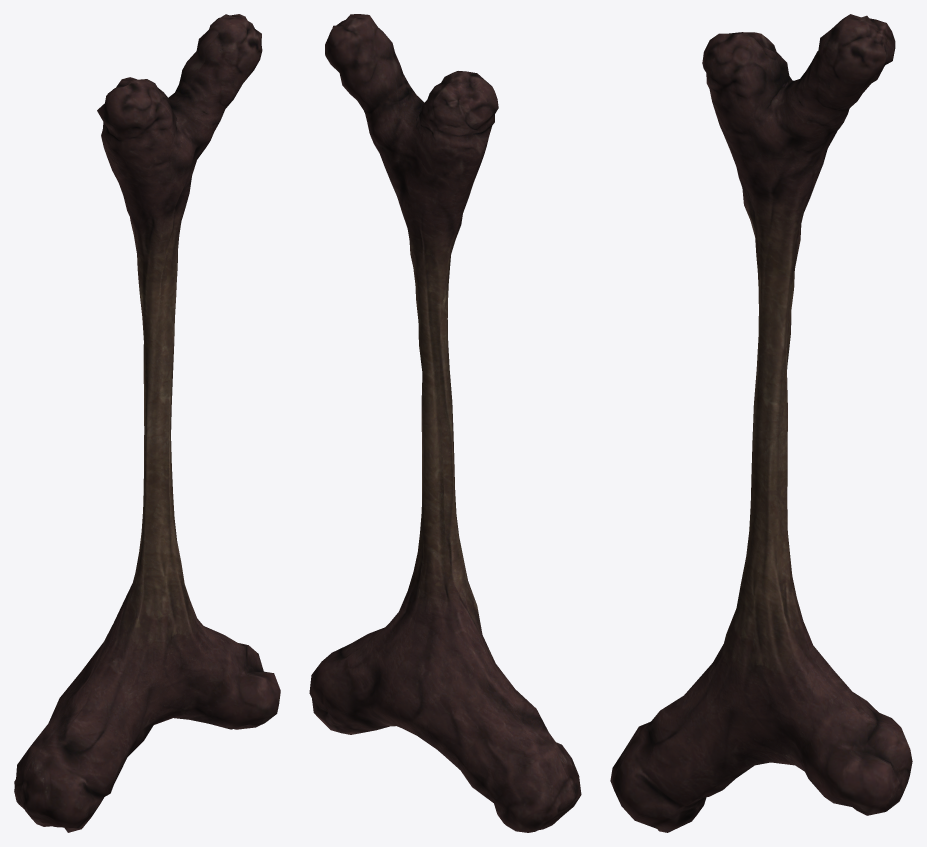
The model's file is shadowflesh_strand_02_decomposed.dae.
3 views of the same model, side by side, from view 1: azimuth 30°, elevation 25°; view 2: azimuth 150°, elevation 25°; view 3: azimuth 330°, elevation 25° (orthographic). The views are drawn at different scales.
Parts seen in each view (by area): view 1: strand_02__2_; view 2: strand_02__2_; view 3: strand_02__2_.
Part boxes in pixels (x1,y1,x2,y2): strand_02__2_: (14,14,280,832); strand_02__2_: (309,14,581,832); strand_02__2_: (610,14,912,832).
Size of the model in its own units: 1.42 by 4.12 by 0.5298.
